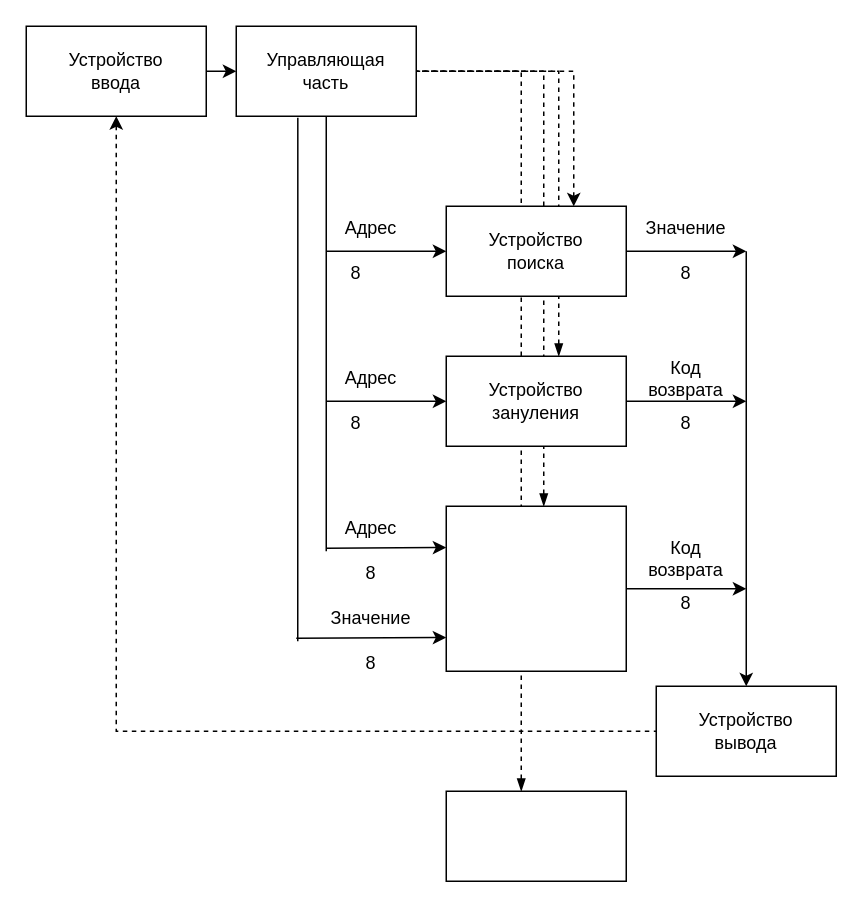
Image size: 863x908. Some labels were removed from this diagram. Here are the shapes that lost their labels. From the top down, the centre of each, then its label:
At [535,588]: "Устройство сохранения значения".
At [535,835]: "Завершение работы".
